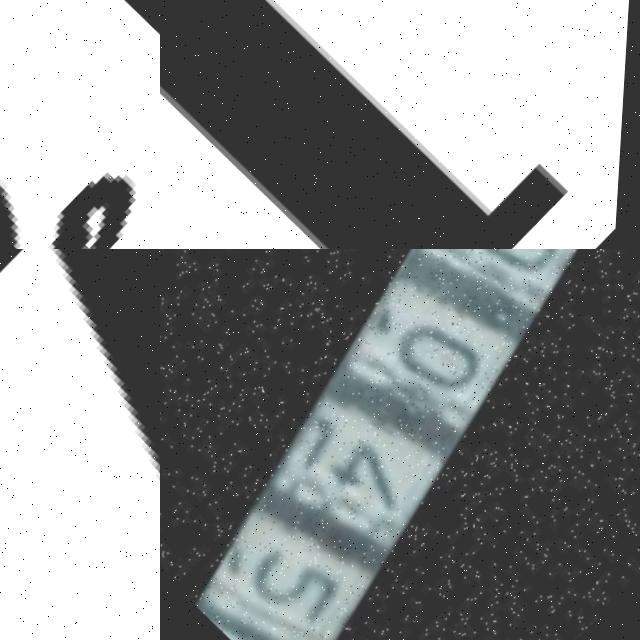0: (372, 286, 520, 432), (453, 249, 590, 308)
4: (304, 401, 454, 550)
5: (237, 521, 373, 640)
I: (160, 0, 604, 249)
L: (0, 249, 160, 640)
Q: (0, 0, 160, 249)
